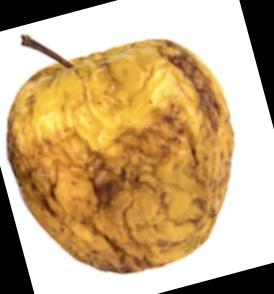Banana: (5, 37, 236, 275)
